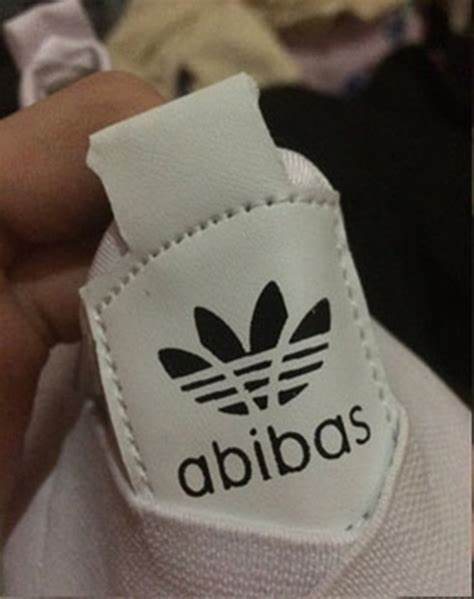adidas Fake: (149, 270, 376, 506)
